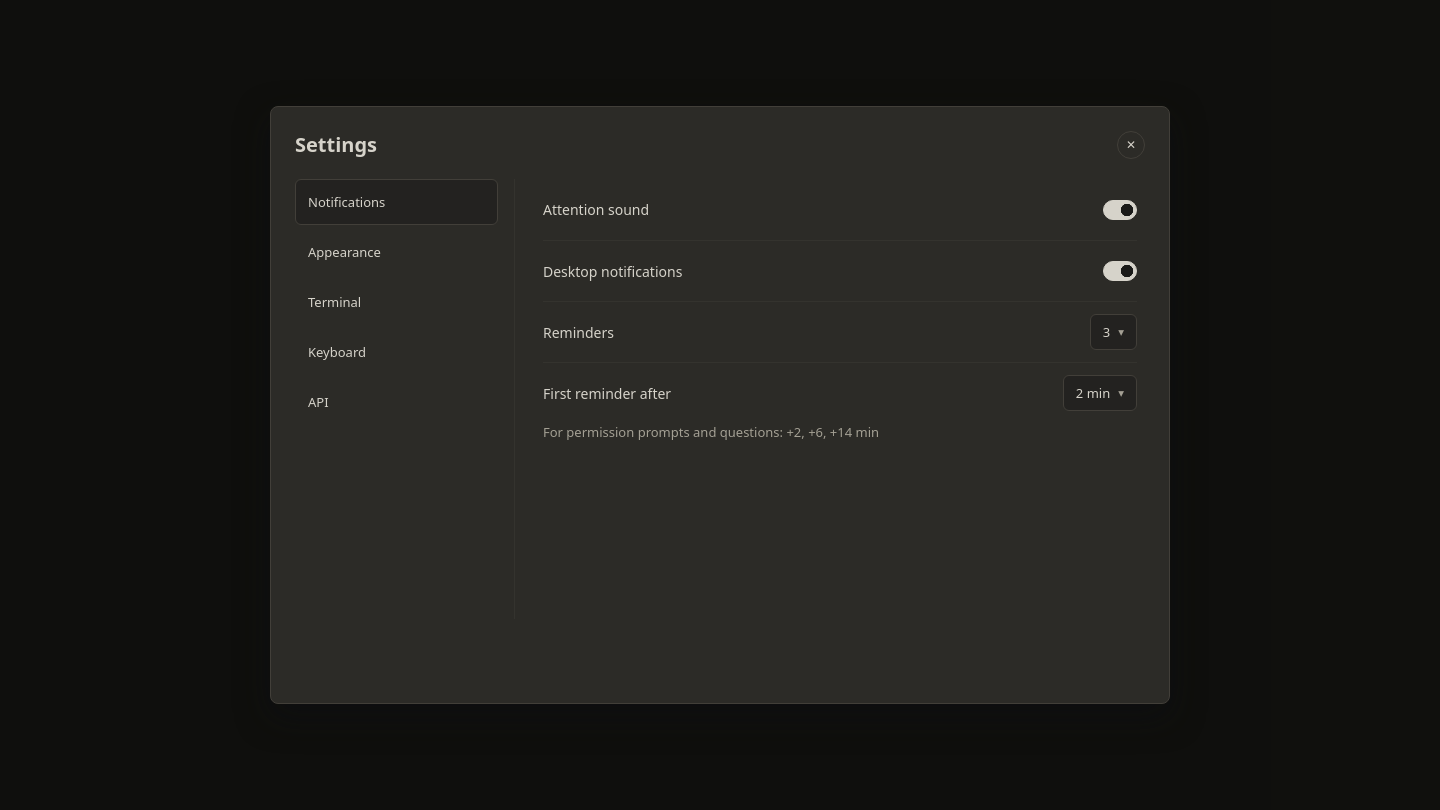
Test: SettingsPanel — attention reminders (spec 2026-09-10) › choosing Off persists { reminderCount: 0 }, hides the delay row, and says Off
Click the button with test id "settings-reminder-count" at (1113, 332), box [1090,314,1137,350]
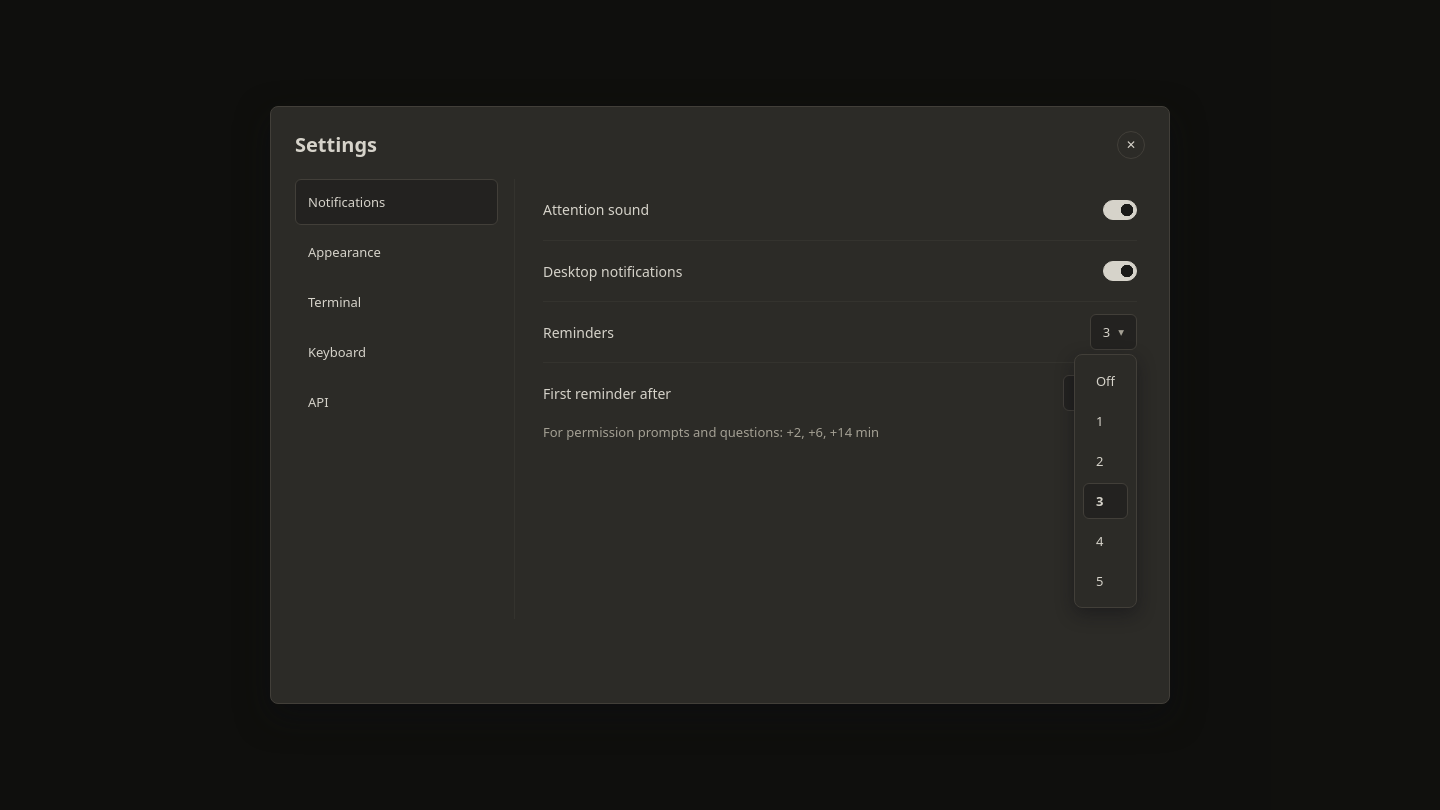
Click the option "Off" at (1105, 381), box [1083,363,1128,399]
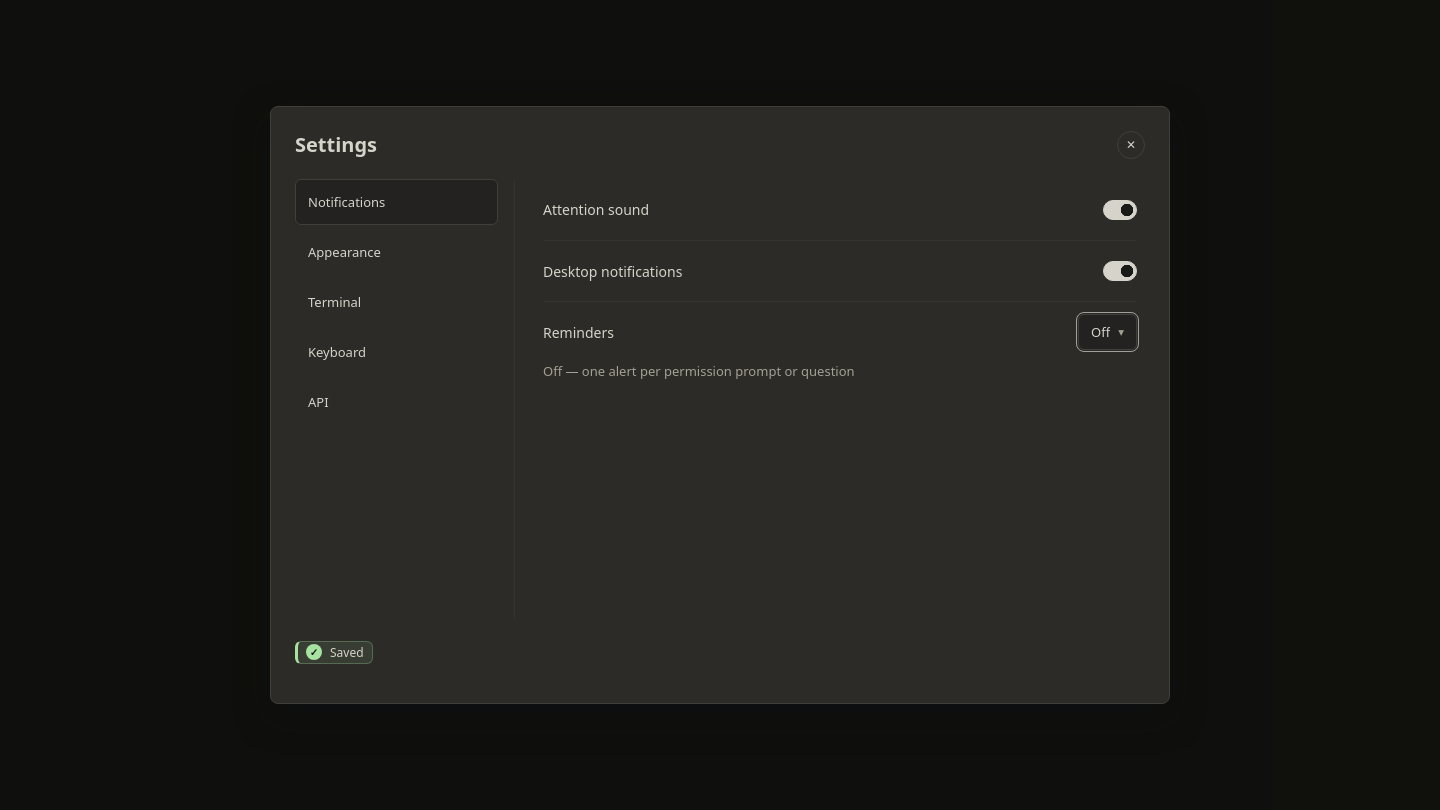
Expected: the button with test id "settings-reminder-first-delay" is gone
Expected: the text with test id "settings-reminder-summary" reads "Off — one alert per permission prompt or question", [543,362,855,380]
